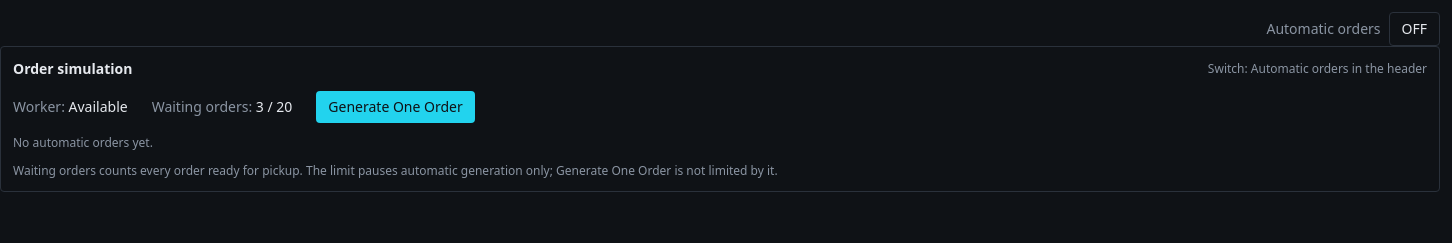
Test: OrderSimulationPanel › does not claim ON when the worker is unavailable (503) and shows the backend message
The width and height of the screenshot is (1452, 243).
Click the switch named "Automatic orders".
click(1414, 29)  # box [1388,12,1440,46]
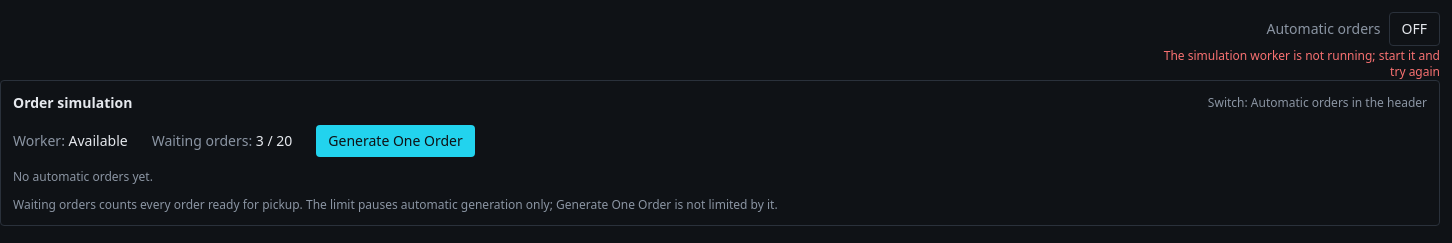
Expected: the message shows "The simulation worker is not running", [1164,47,1440,80]
